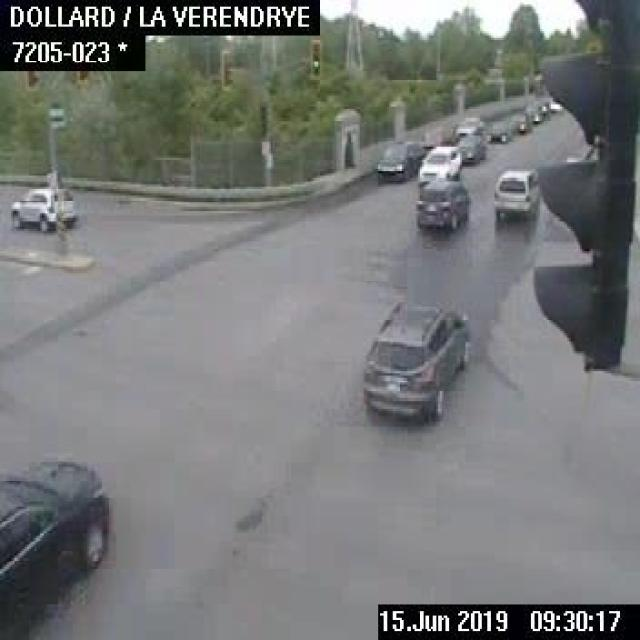vehicle: (0, 455, 107, 637), (360, 298, 471, 418), (411, 178, 469, 234), (7, 184, 75, 227), (491, 164, 540, 213), (414, 141, 464, 179), (374, 139, 416, 181), (455, 132, 486, 164), (454, 114, 484, 135), (485, 118, 509, 144), (506, 110, 528, 134)
